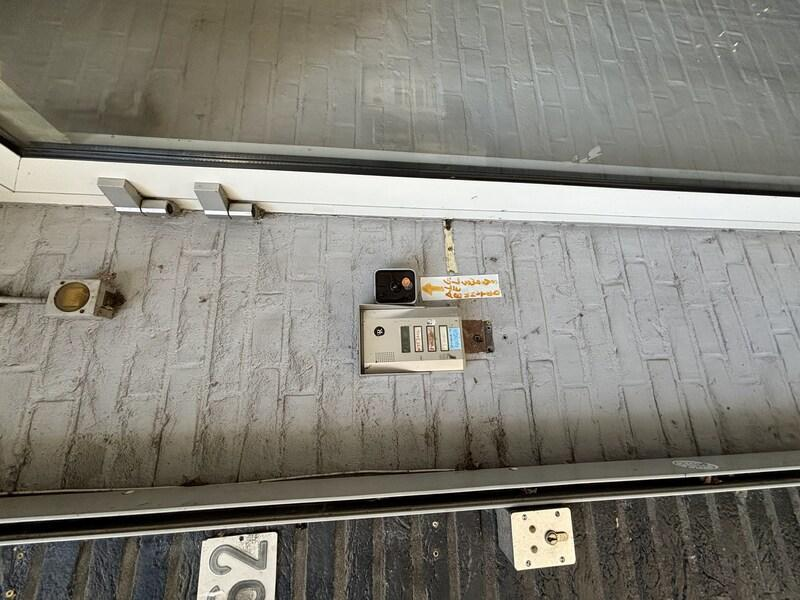doorbell: (290, 365, 338, 419)
